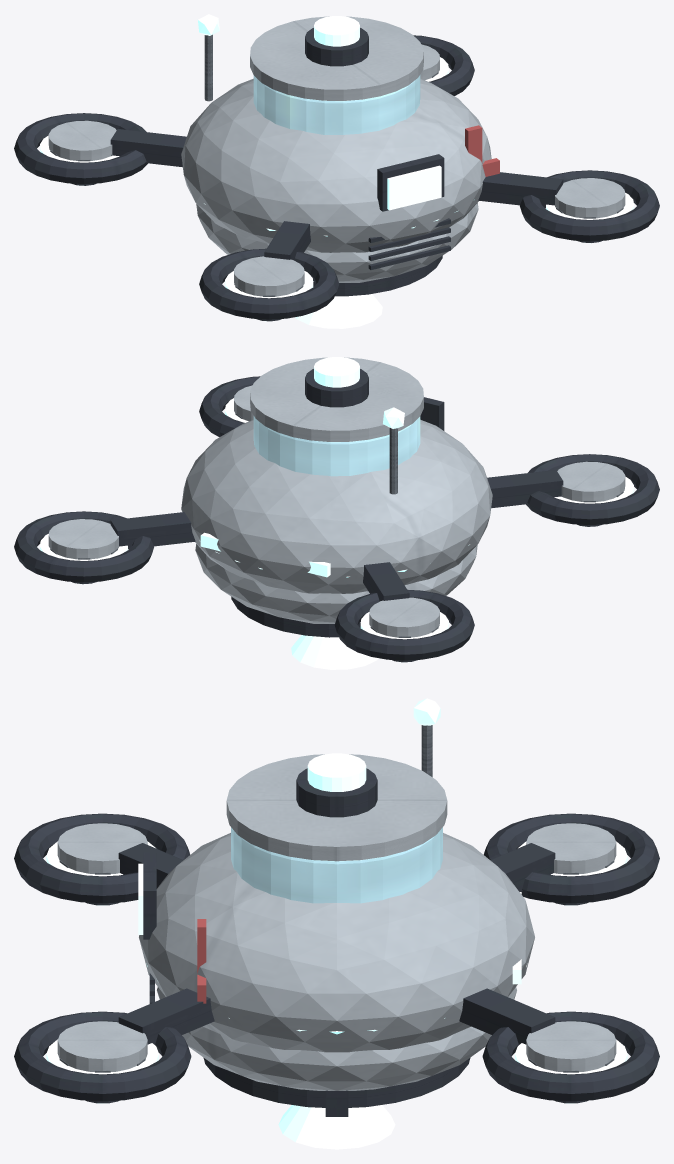
The model's file is medbot.glb.
3 renders of one model, top to bottom at view 1: azimuth 30°, elevation 25°; view 2: azimuth 150°, elevation 25°; view 3: azimuth 270°, elevation 25°, orthographic. The views are drawn at different scales.
Parts seen in each view (by area): view 1: hull_upper, medbay_lid, medbay, ring2, ring3, ring1, hull_lower, hub2, hub3, hub1, arm3, scan_cone (+15 smaller); view 2: hull_upper, medbay_lid, medbay, hull_lower, ring1, ring0, ring2, hub1, hub0, hub2, arm0, scan_cone (+10 smaller); view 3: hull_upper, medbay_lid, hull_lower, medbay, ring0, ring3, ring1, ring2, scan_cone, underbelly, hub0, hub3 (+11 smaller).
Boxes of the visible parts, left/top/right/bottom form: hull_upper: left=181, top=78, right=491, bottom=252; medbay_lid: left=250, top=16, right=423, bottom=100; medbay: left=253, top=75, right=420, bottom=134; ring2: left=199, top=248, right=339, bottom=319; ring3: left=520, top=170, right=659, bottom=241; ring1: left=14, top=113, right=147, bottom=183; hull_lower: left=196, top=203, right=478, bottom=282; hub2: left=234, top=256, right=304, bottom=296; hub3: left=555, top=178, right=625, bottom=218; hub1: left=48, top=120, right=116, bottom=160; arm3: left=478, top=172, right=563, bottom=208; scan_cone: left=295, top=294, right=382, bottom=328; hull_upper: left=181, top=419, right=492, bottom=593; medbay_lid: left=250, top=357, right=423, bottom=441; medbay: left=253, top=416, right=420, bottom=476; hull_lower: left=195, top=544, right=477, bottom=623; ring1: left=334, top=589, right=474, bottom=660; ring0: left=14, top=511, right=153, bottom=582; ring2: left=526, top=454, right=659, bottom=525; hub1: left=369, top=597, right=439, bottom=637; hub0: left=48, top=519, right=118, bottom=559; hub2: left=557, top=461, right=625, bottom=501; arm0: left=110, top=512, right=195, bottom=549; scan_cone: left=291, top=635, right=378, bottom=669; hull_upper: left=139, top=833, right=534, bottom=1052; medbay_lid: left=226, top=754, right=447, bottom=861; hull_lower: left=157, top=987, right=516, bottom=1090; medbay: left=231, top=827, right=442, bottom=903; ring0: left=482, top=1011, right=659, bottom=1101; ring3: left=14, top=1011, right=191, bottom=1101; ring1: left=483, top=813, right=659, bottom=903; ring2: left=14, top=813, right=190, bottom=903; scan_cone: left=278, top=1105, right=395, bottom=1149; underbelly: left=203, top=1057, right=470, bottom=1107; hub0: left=526, top=1021, right=616, bottom=1071; hub3: left=57, top=1021, right=147, bottom=1071.
Size of the model in its own units: 1.43 by 0.905 by 1.43.
Materials: 8 (6 with a texture image).
